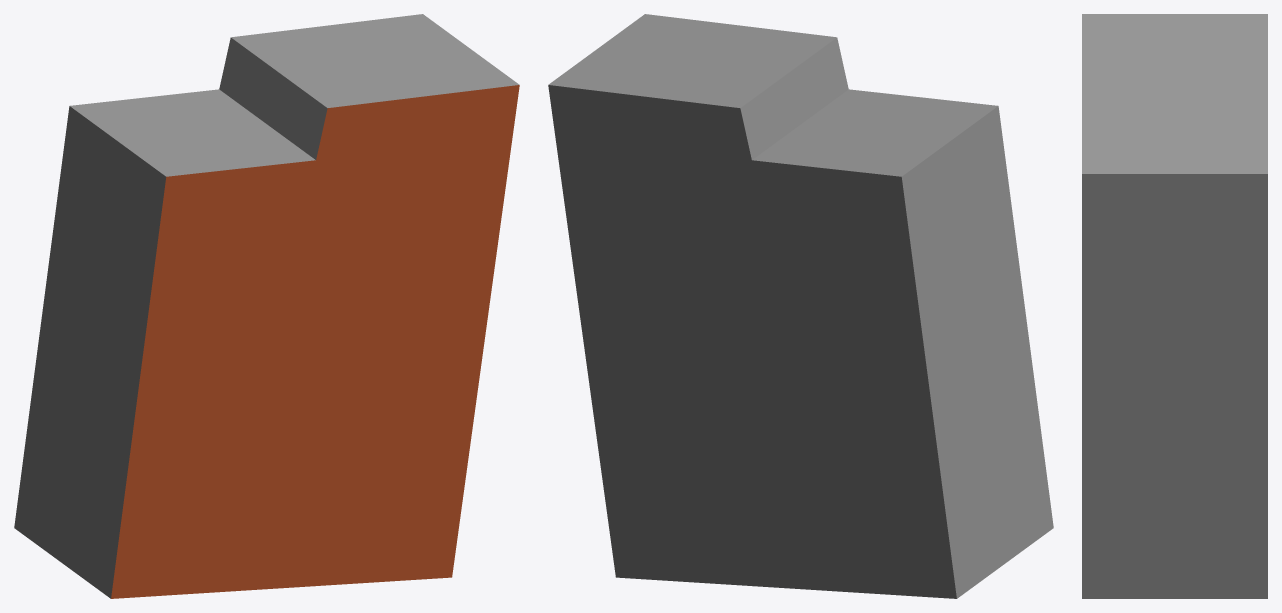
The model's file is construction_0251_assumed_A_Casa_h6m.obj.
The picture shows the model from 3 angles, left to right: view 1: azimuth 30°, elevation 25°; view 2: azimuth 150°, elevation 25°; view 3: azimuth 270°, elevation 25°; orthographic projection. The views are drawn at different scales.
Visible parts, largest first — view 1: construction_0251_assumed_A_Casa; view 2: construction_0251_assumed_A_Casa; view 3: construction_0251_assumed_A_Casa.
Part boxes in pixels (bbox=[...]): construction_0251_assumed_A_Casa: bbox=[14, 14, 519, 598]; construction_0251_assumed_A_Casa: bbox=[548, 14, 1053, 598]; construction_0251_assumed_A_Casa: bbox=[1082, 14, 1267, 598].
Size of the model in its own units: 14.62 by 17.08 by 6.
